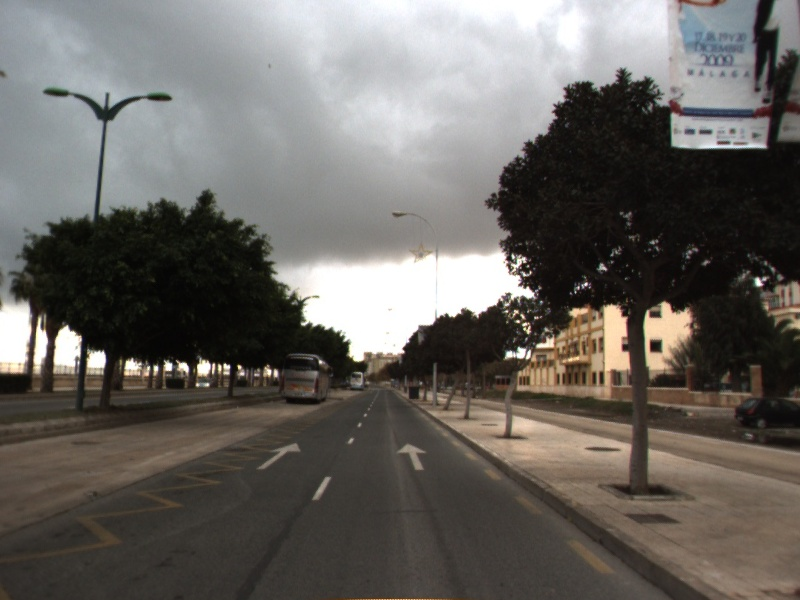STRAIGHT: (254, 440, 303, 472), (394, 441, 430, 472)
